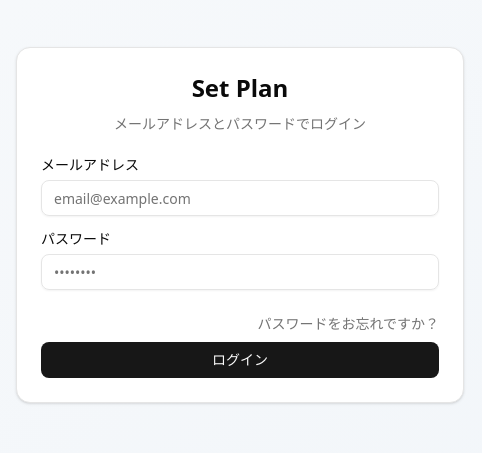
it: Sign In › should show error for invalid credentials
Type "invalid@example.com" into the field with id "email" at (240, 198), box [41,180,439,216]
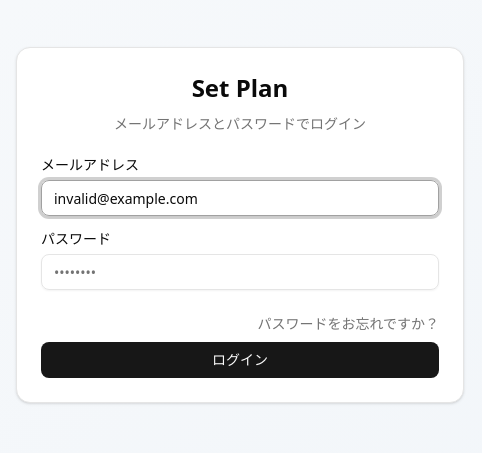
Type "wrongpassword" into the password field labelled "パスワード" at (240, 272), box [41,254,439,290]
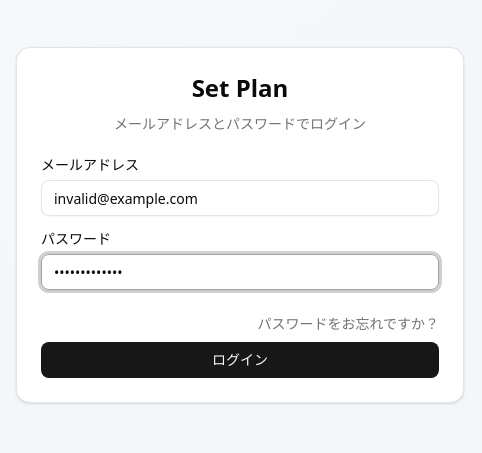
Click the submit button at (240, 360), box [41,342,439,378]
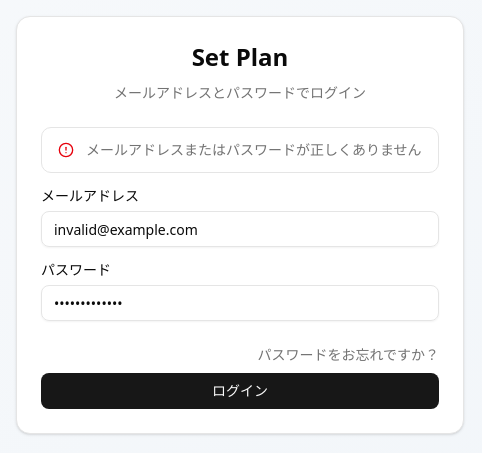
Now the text "メールアドレスまたはパスワードが正しくありません" is shown, box [86,140,422,160]
